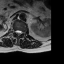CCS_normal: (17, 28, 20, 38)
LFS_normal: (22, 28, 24, 35)
LLS_normal: (20, 28, 22, 36)
RFS_normal: (13, 27, 15, 35)
RLS_normal: (15, 28, 17, 36)
